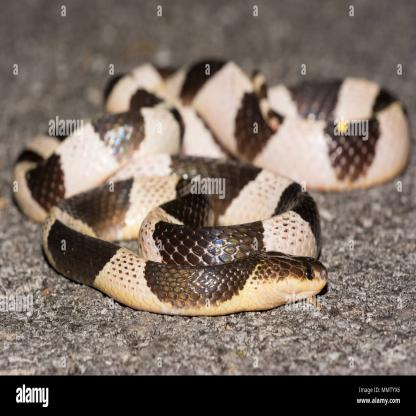Snake: (19, 60, 412, 320), (208, 254, 329, 313)
